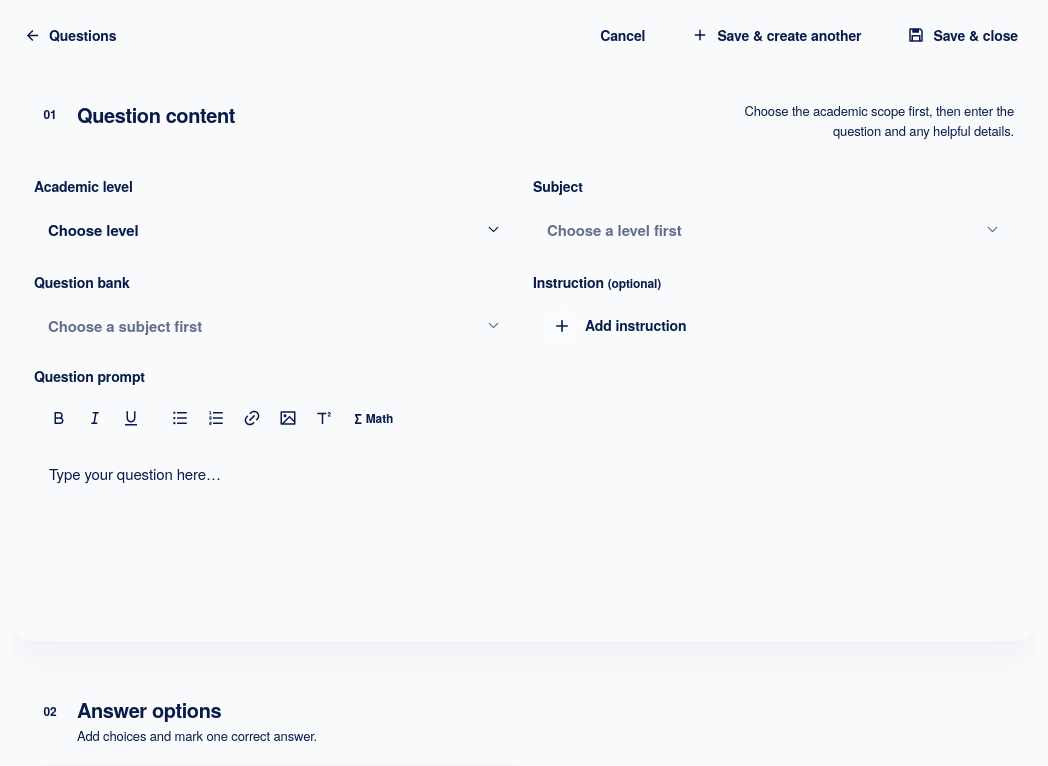
Test: academic authoring scope › shows the administrator level catalog while keeping empty subject scope empty
The image size is (1048, 766).
What coordinates should you click on to do the following:
click the dropdown named "academic level"
I would click on:
 (93, 230)
Its box is [34,205,515,254].
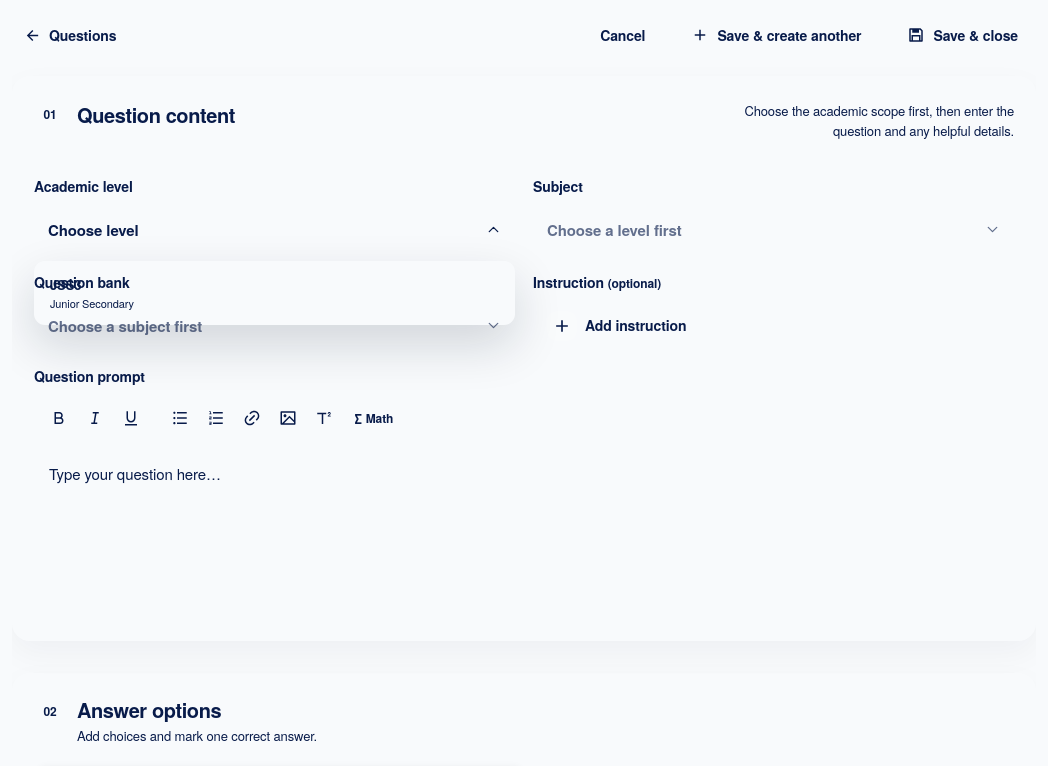
Expected: the dropdown named "subject" is disabled, [533,205,1014,254]
Expected: the option "JSS3 Junior Secondary" is shown, [40,267,509,319]
